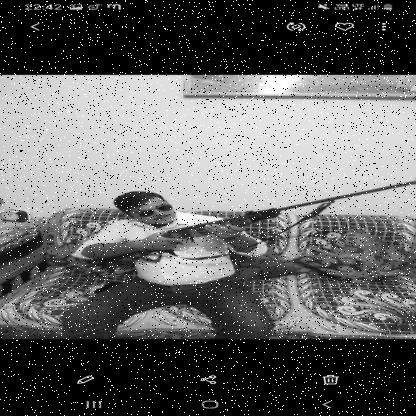rifle: (110, 180, 416, 268)
